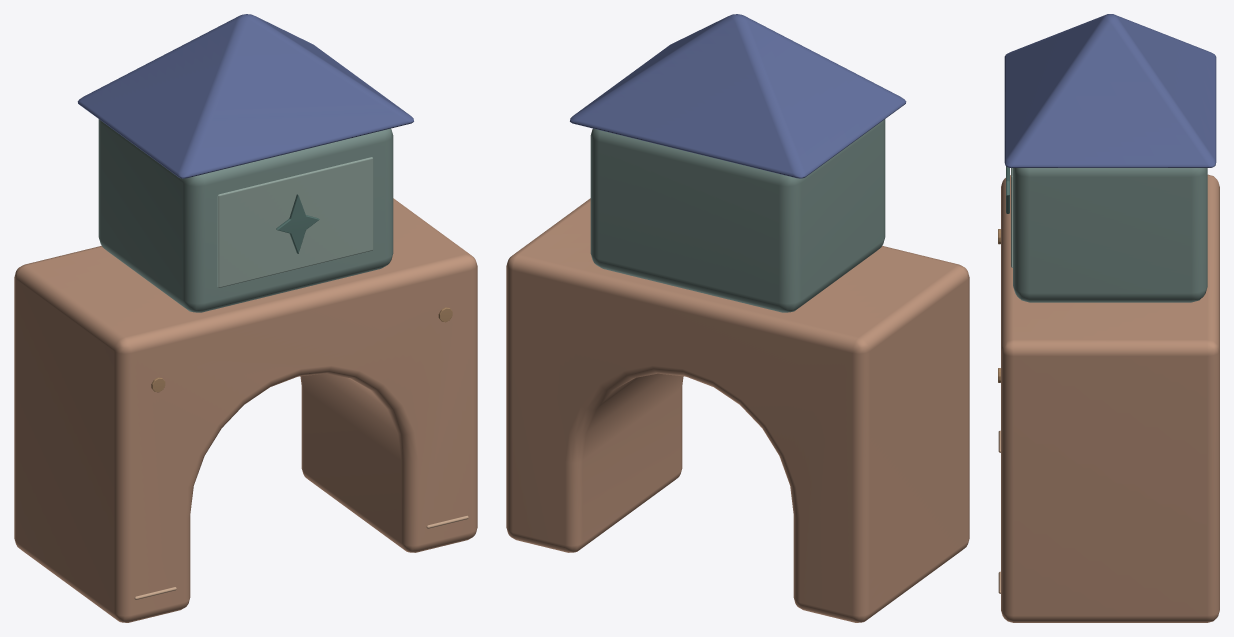
File: block-tower.glb
3 renders of one model, left to right at view 1: azimuth 30°, elevation 25°; view 2: azimuth 150°, elevation 25°; view 3: azimuth 270°, elevation 25°, orthographic.
Parts seen in each view (by area): view 1: block-tower; view 2: block-tower; view 3: block-tower.
Boxes of the visible parts, box(x1,y1,x2,y2) form: block-tower: box(14, 14, 477, 622); block-tower: box(506, 14, 969, 622); block-tower: box(998, 14, 1219, 622).
Bounding box in the file's own units: 1.7 × 2.38 × 0.912.
